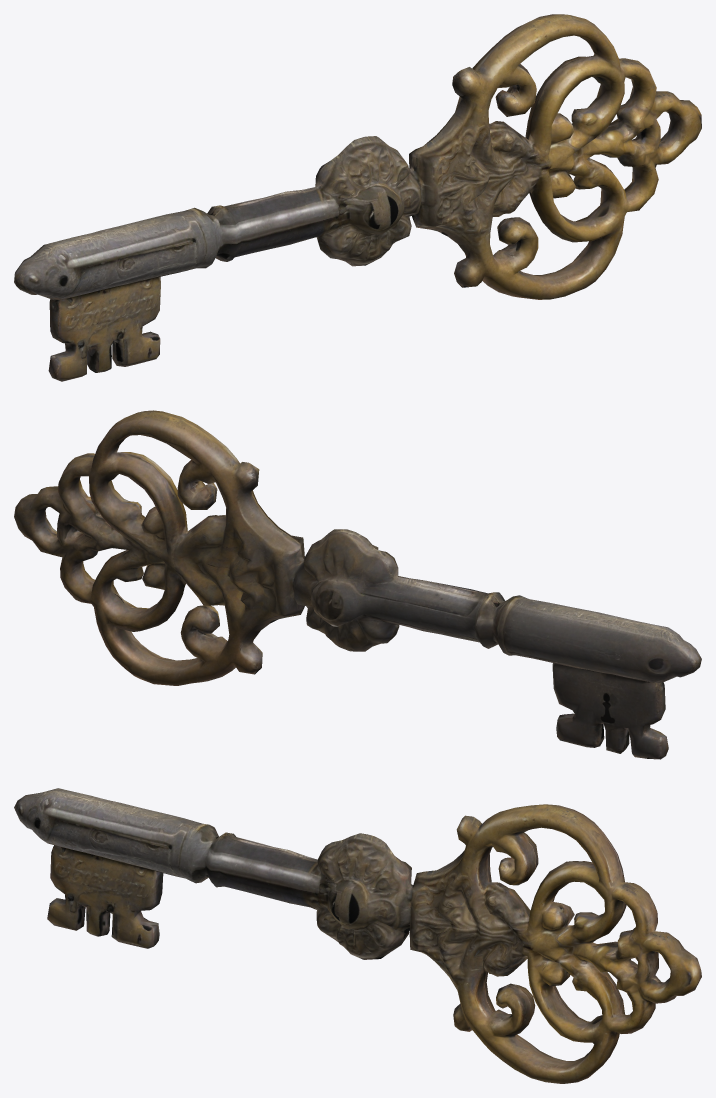
The model's file is Gold_Key.glb.
3 renders of one model, top to bottom at view 1: azimuth 30°, elevation 25°; view 2: azimuth 150°, elevation 25°; view 3: azimuth 330°, elevation 25°, orthographic. The views are drawn at different scales.
Size of the model in its own units: 2 by 0.7667 by 0.2307.
1 material, 1 textured.
